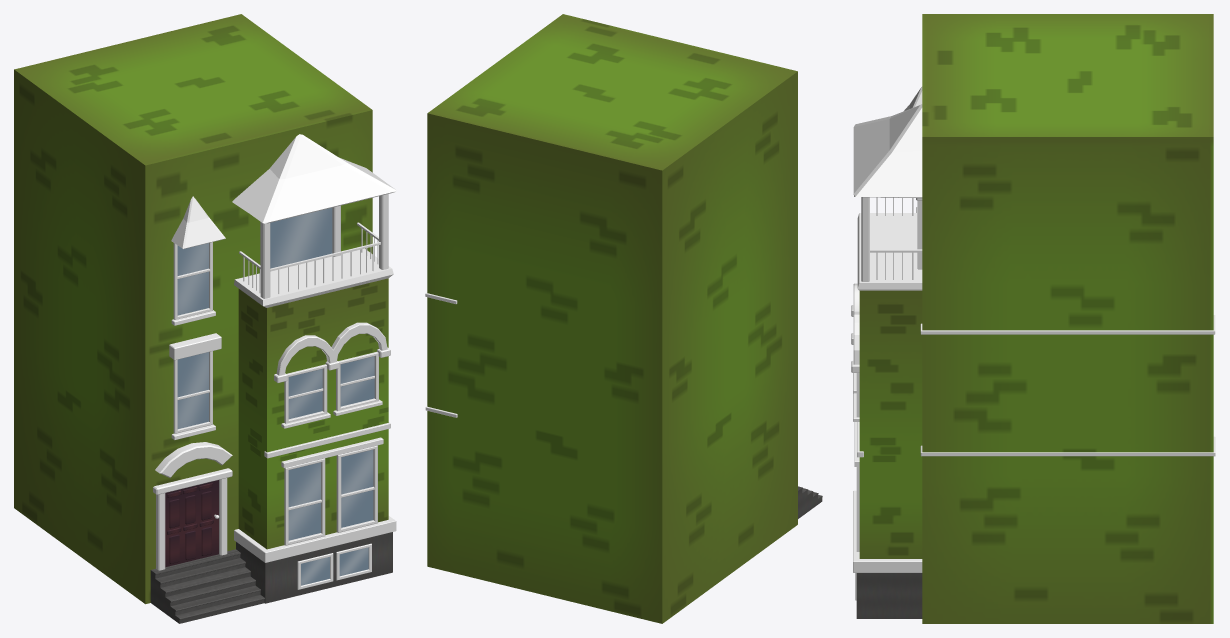
The model's file is house1-2.fbx.
The picture shows the model from 3 angles, left to right: view 1: azimuth 30°, elevation 25°; view 2: azimuth 150°, elevation 25°; view 3: azimuth 270°, elevation 25°; orthographic projection. The views are drawn at different scales.
Visible parts, largest first — view 1: polySurface198; view 2: polySurface198; view 3: polySurface198.
Part boxes in pixels (x1,y1,x2,y2): polySurface198: (14,14,396,623); polySurface198: (425,14,822,623); polySurface198: (851,14,1215,623).
Bounding box in the file's own units: 5.03 × 9.22 × 6.25.
